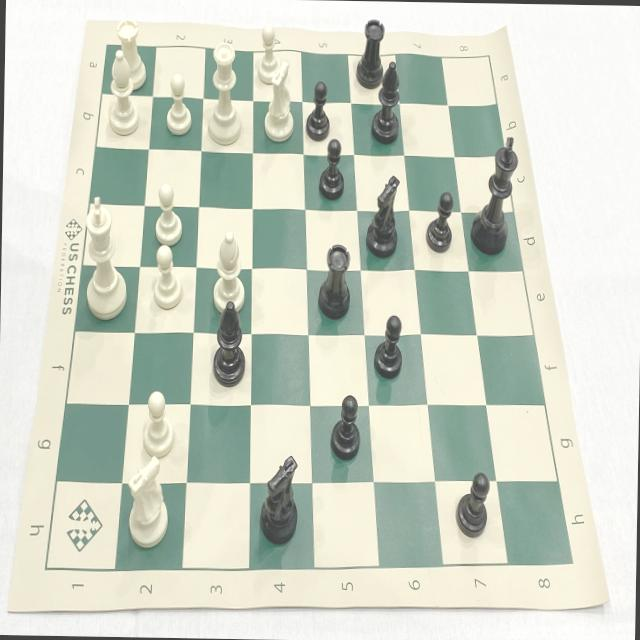black-bishop: (208, 298, 250, 394), (370, 55, 402, 152)
black-king: (466, 128, 522, 261)
black-knight: (255, 450, 302, 550), (364, 168, 404, 265)
black-pawn: (454, 466, 493, 544), (326, 384, 364, 464), (370, 306, 404, 388), (423, 188, 458, 260), (300, 77, 334, 143), (316, 134, 348, 204)
black-rook: (313, 234, 355, 324), (351, 8, 386, 92)
white-bishop: (101, 46, 146, 141), (207, 223, 250, 319)
white-king: (78, 190, 134, 328)
white-knight: (121, 452, 173, 555), (259, 55, 299, 146)
white-pawn: (148, 238, 186, 316), (138, 384, 176, 459), (148, 176, 186, 250), (249, 18, 287, 86), (161, 70, 196, 136)
white-queen: (202, 39, 246, 152)
white-rook: (108, 10, 154, 96)
